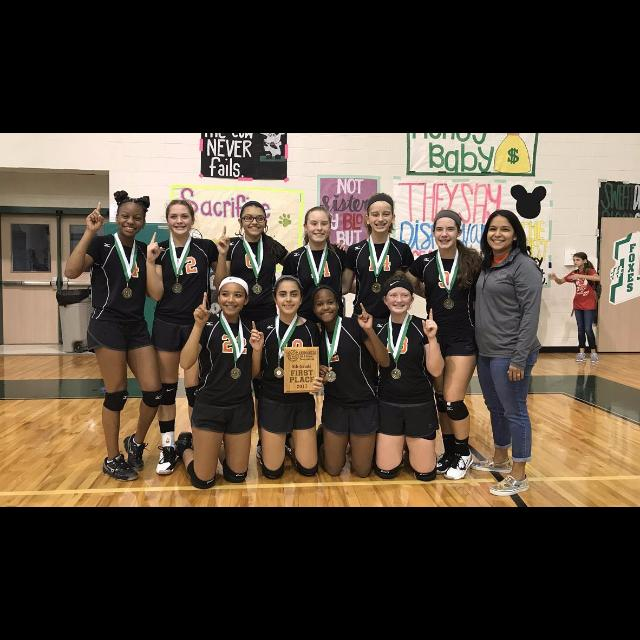head: (486, 209, 520, 251), (272, 274, 306, 316), (432, 210, 464, 250), (218, 276, 250, 316), (116, 197, 148, 237), (366, 192, 396, 234), (382, 278, 416, 314), (166, 199, 197, 237), (304, 206, 332, 244), (313, 288, 342, 324), (238, 202, 268, 236), (574, 254, 588, 268)
person: (213, 200, 349, 468), (62, 188, 166, 484), (403, 206, 487, 482), (143, 196, 225, 478), (468, 207, 546, 498), (340, 190, 420, 462), (298, 284, 392, 478), (175, 272, 258, 490), (282, 203, 352, 459), (367, 268, 448, 484), (248, 273, 330, 482), (546, 250, 604, 364)
